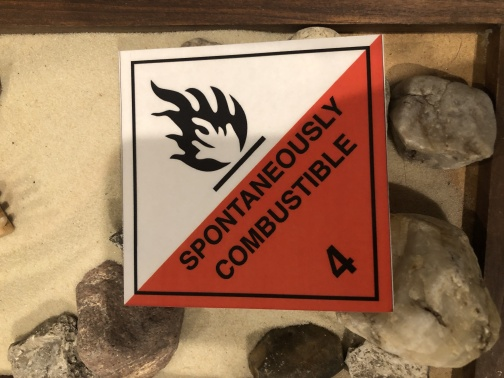SpontaneouslyCombustible: (120, 35, 396, 313)
